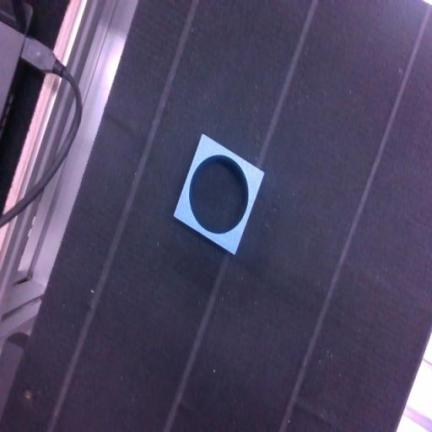square: (174, 135, 264, 253)
